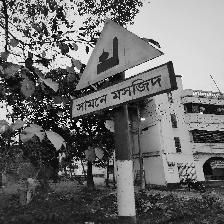Mosque in front: (69, 18, 176, 121)
